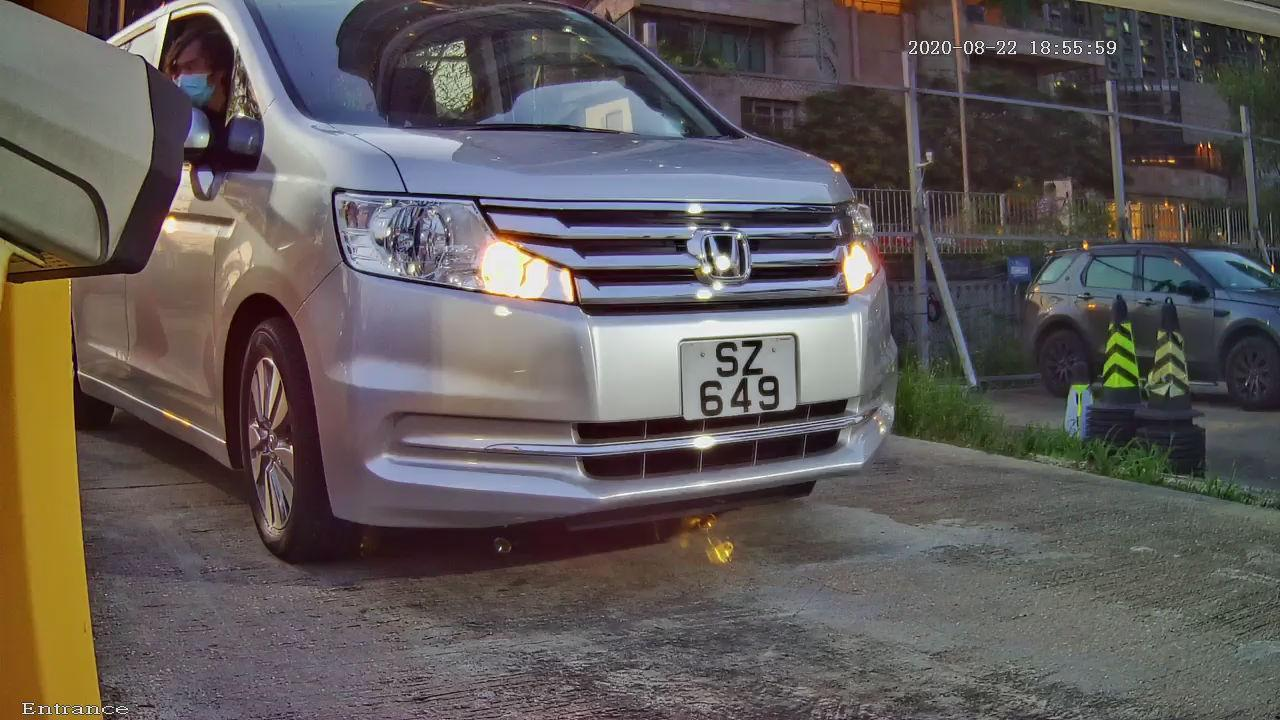Car: (80, 1, 1029, 579)
License Plate: (663, 322, 812, 431)
